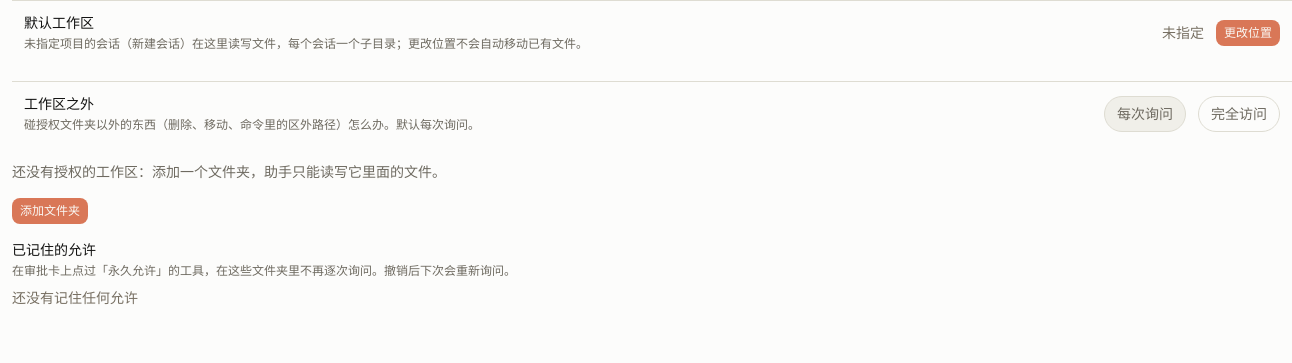
Scenario: 工作区组 · 默认工作区（T18） › 点「更改位置」→ workspace:pickDefault，指认后行里就是新路径（以落盘为准）
Click the button with test id "default-workspace-change".
click(1248, 33)  # box [1216, 20, 1280, 46]
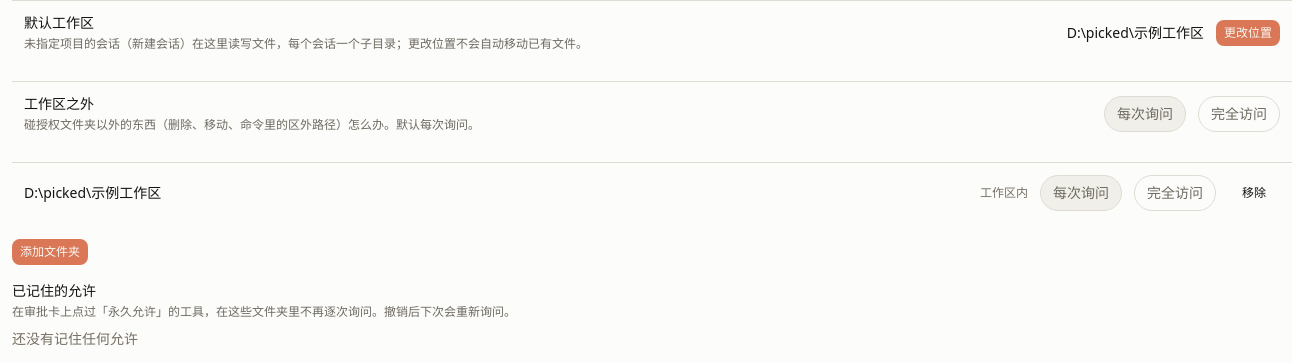
Check: the button with test id "default-workspace-path" reads "D:\\picked\\示例工作区", box [1067, 23, 1204, 42]
